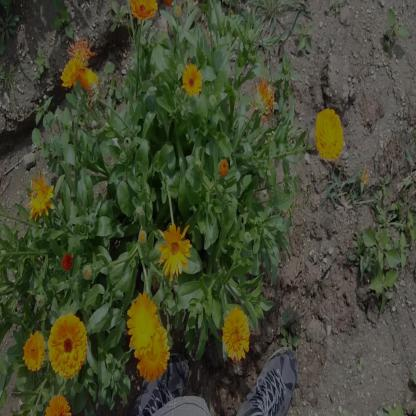marigold: (49, 313, 86, 375), (158, 221, 193, 278), (126, 297, 160, 353), (134, 324, 166, 382), (222, 308, 251, 360), (317, 106, 344, 158), (28, 172, 53, 218), (61, 50, 79, 89), (24, 333, 44, 368), (181, 64, 201, 94), (130, 0, 158, 21), (79, 66, 99, 89)
